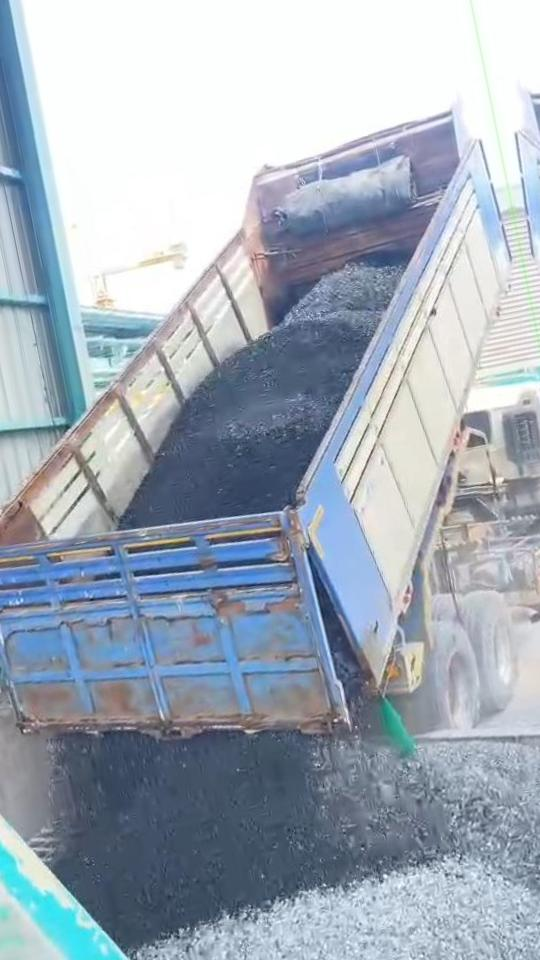gravel: (54, 733, 540, 960), (121, 262, 403, 528), (318, 586, 360, 707)
